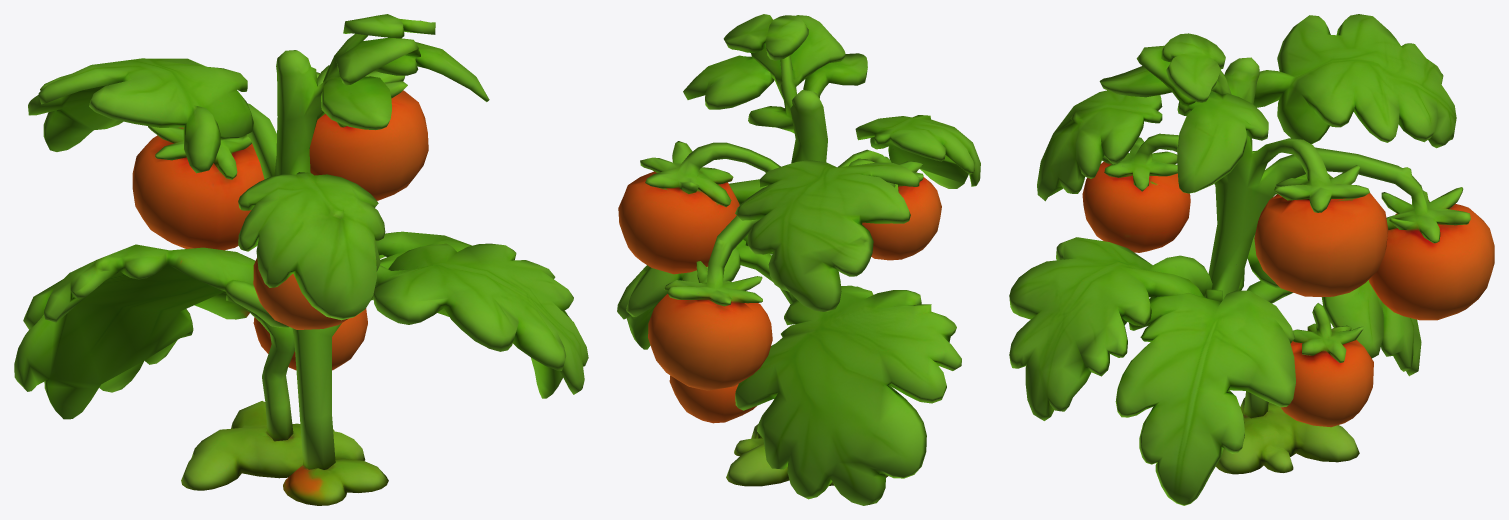
3 renders of one model, left to right at view 1: azimuth 30°, elevation 25°; view 2: azimuth 150°, elevation 25°; view 3: azimuth 270°, elevation 25°, orthographic. The views are drawn at different scales.
Visible parts, largest first — view 1: tripo_node_e9e0c2de-c22b-4593-afac-89298d98c6bf; view 2: tripo_node_e9e0c2de-c22b-4593-afac-89298d98c6bf; view 3: tripo_node_e9e0c2de-c22b-4593-afac-89298d98c6bf.
Part boxes in pixels (bbox=[...]): tripo_node_e9e0c2de-c22b-4593-afac-89298d98c6bf: bbox=[14, 14, 588, 505]; tripo_node_e9e0c2de-c22b-4593-afac-89298d98c6bf: bbox=[617, 14, 980, 505]; tripo_node_e9e0c2de-c22b-4593-afac-89298d98c6bf: bbox=[1009, 14, 1494, 505].
Size of the model in its own units: 0.9746 by 0.9707 by 0.998.
Materials: 1 (1 with a texture image).
